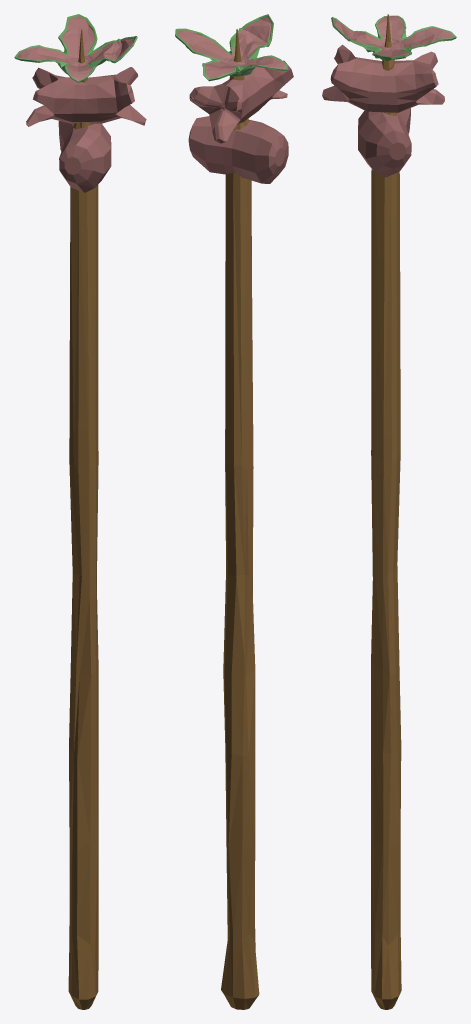
Rendered from campfire_stick_for_sausage.obj.
The picture shows the model from 3 angles, left to right: view 1: azimuth 90°, elevation 25°; view 2: azimuth 150°, elevation 25°; view 3: azimuth 270°, elevation 25°; orthographic projection.
Visible parts, largest first — view 1: stick_Material, sausage_Material, flower_Material, sausage_2_Material; view 2: stick_Material, sausage_2_Material, sausage_Material, flower_Material; view 3: stick_Material, sausage_Material, sausage_2_Material, flower_Material.
Boxes of the visible parts, x1,y1,x2,y2 form: stick_Material: [68, 29, 98, 1009]; sausage_Material: [26, 67, 146, 126]; flower_Material: [14, 14, 137, 82]; sausage_2_Material: [58, 121, 111, 192]; stick_Material: [221, 29, 259, 1009]; sausage_2_Material: [188, 116, 288, 183]; sausage_Material: [189, 60, 293, 143]; flower_Material: [175, 14, 287, 81]; stick_Material: [371, 14, 401, 1009]; sausage_Material: [322, 44, 444, 112]; sausage_2_Material: [358, 108, 411, 177]; flower_Material: [331, 15, 456, 61].
Size of the model in its own units: 0.27 by 2.25 by 0.2764.
